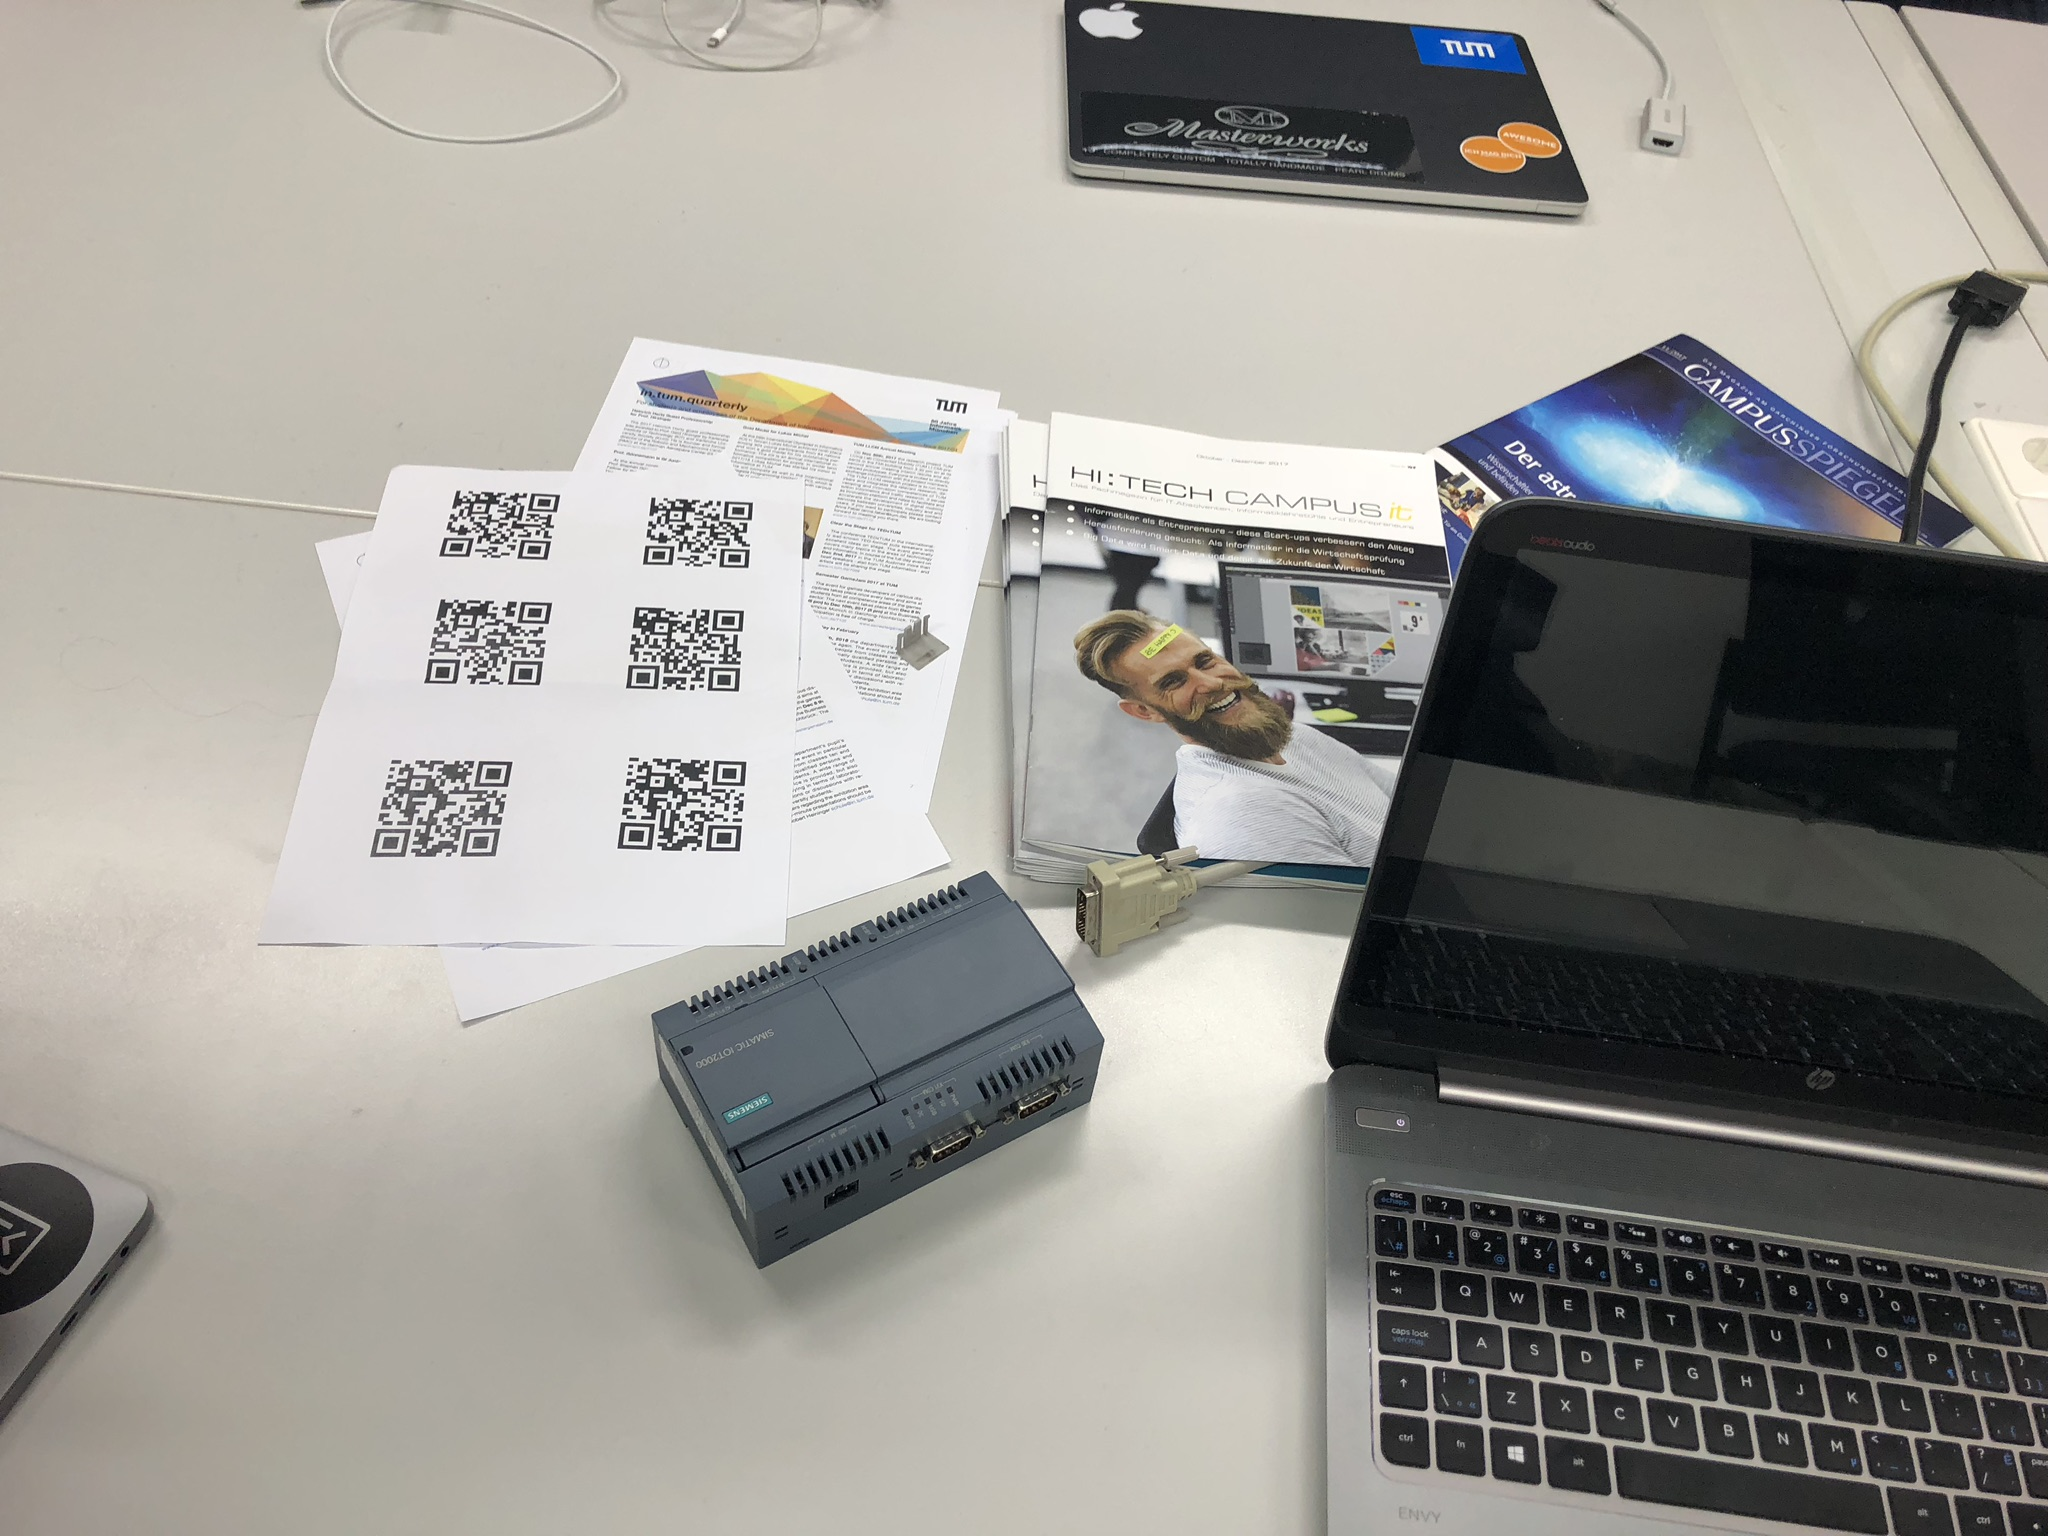device: (651, 870, 1106, 1271)
